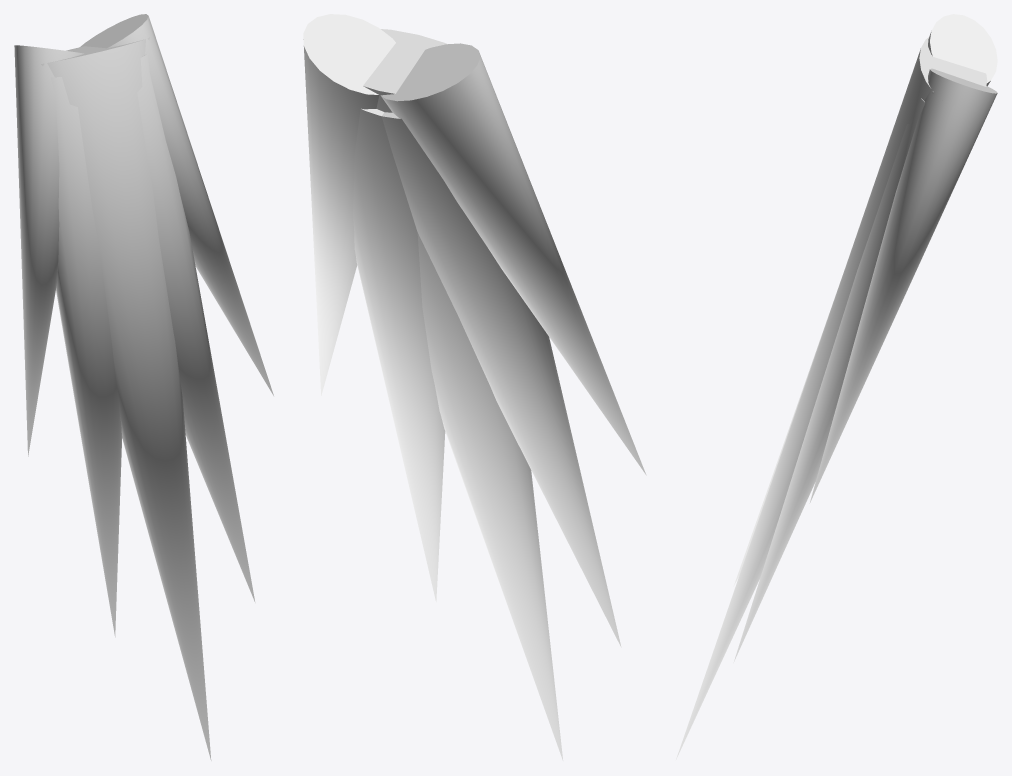
File: beardS.obj
3 views of the same model, side by side, from view 1: azimuth 30°, elevation 25°; view 2: azimuth 150°, elevation 25°; view 3: azimuth 270°, elevation 25° (orthographic). The views are drawn at different scales.
Visible parts, largest first — view 1: barba; view 2: barba; view 3: barba.
Part boxes in pixels (x1=…): barba: x1=14, y1=14, x2=273, y2=760; barba: x1=303, y1=14, x2=646, y2=760; barba: x1=676, y1=14, x2=997, y2=759.
Size of the model in its own units: 0.3516 by 0.8733 by 0.357.
